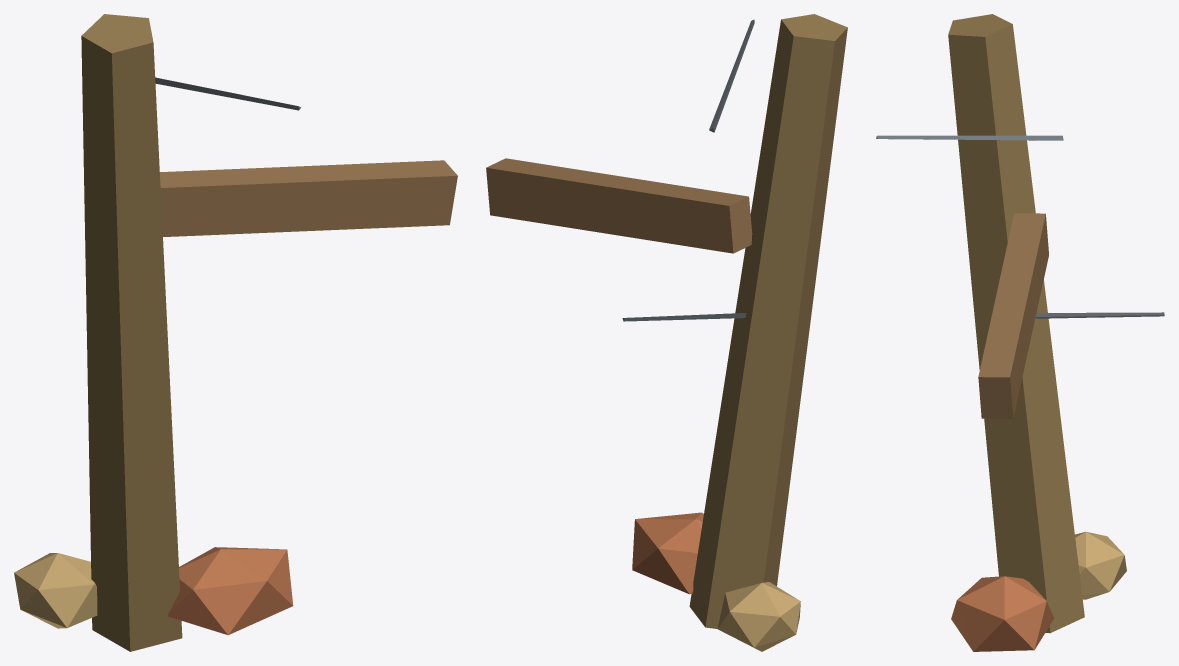
File: fence_post_desert.glb
3 renders of one model, left to right at view 1: azimuth 30°, elevation 25°; view 2: azimuth 150°, elevation 25°; view 3: azimuth 270°, elevation 25°, orthographic. The views are drawn at different scales.
Visible parts, largest first — view 1: fence_post_desert; view 2: fence_post_desert; view 3: fence_post_desert.
Part boxes in pixels (box(x1,y1,x2,y2)): fence_post_desert: box(14, 14, 457, 651); fence_post_desert: box(486, 14, 847, 651); fence_post_desert: box(876, 14, 1164, 651).
Size of the model in its own units: 0.6816 by 1.1 by 0.4963.
2 materials, 2 textured.
